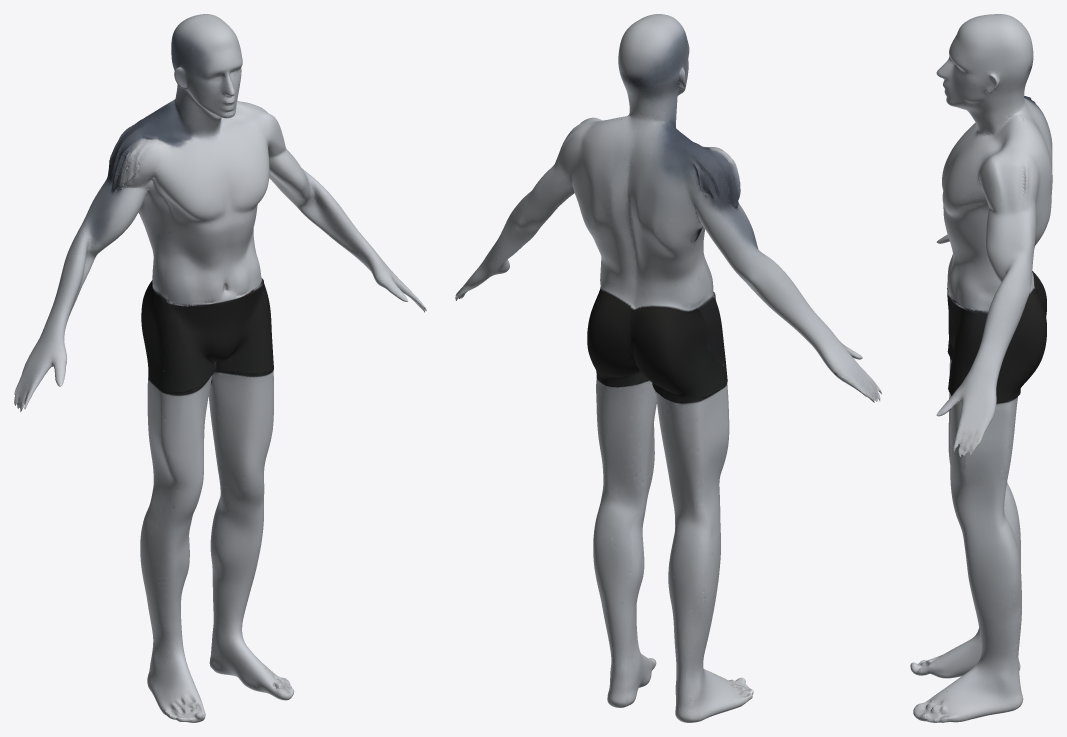
The model's file is base_hombre.glb.
3 views of the same model, side by side, from view 1: azimuth 30°, elevation 25°; view 2: azimuth 150°, elevation 25°; view 3: azimuth 270°, elevation 25° (orthographic). The views are drawn at different scales.
Parts seen in each view (by area): view 1: model; view 2: model; view 3: model.
Boxes of the visible parts, bbox=[...] form: model: bbox=[14, 14, 426, 722]; model: bbox=[455, 14, 881, 722]; model: bbox=[910, 14, 1052, 722].
Bounding box in the file's own units: 1.21 × 1.9 × 0.3608.
1 material, 1 textured.
